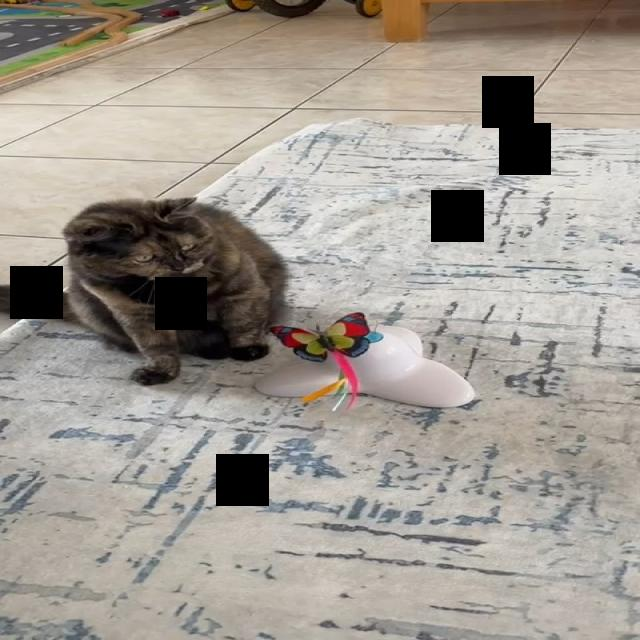authorized: (0, 195, 289, 385)
